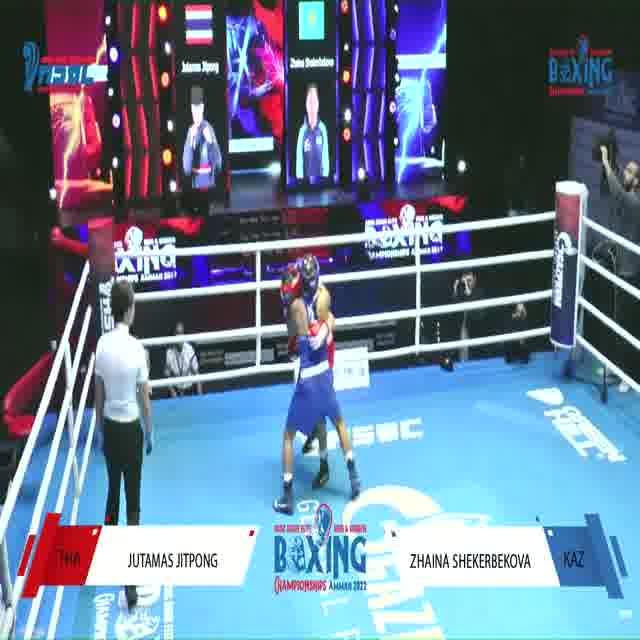blue-player: (272, 254, 363, 518)
red-player: (280, 264, 337, 490)
referee: (88, 279, 154, 617)
